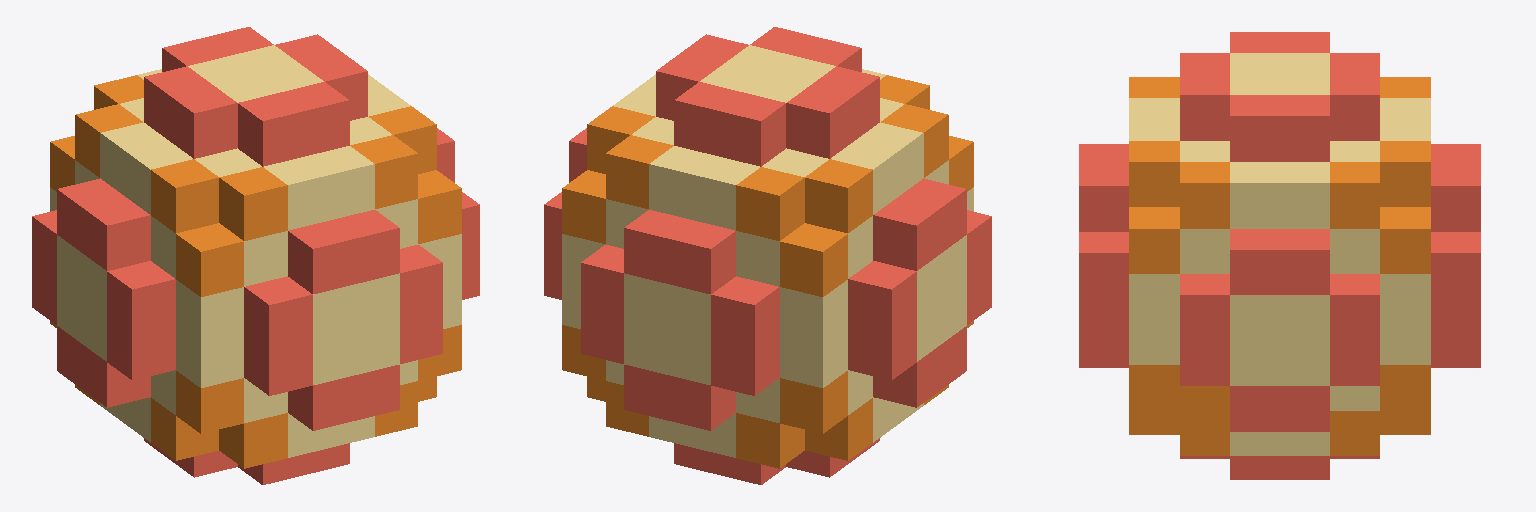
3 views of the same model, side by side, from view 1: azimuth 30°, elevation 25°; view 2: azimuth 150°, elevation 25°; view 3: azimuth 270°, elevation 25° (orthographic).
Parts seen in each view (by area): view 1: Matrix_5; view 2: Matrix_5; view 3: Matrix_5.
Boxes of the visible parts, box(x1,y1,x2,y2) form: Matrix_5: box(32, 27, 479, 484); Matrix_5: box(544, 27, 991, 484); Matrix_5: box(1079, 32, 1480, 479).
Bounding box in the file's own units: 8 × 8 × 8.
Materials: 1 (1 with a texture image).